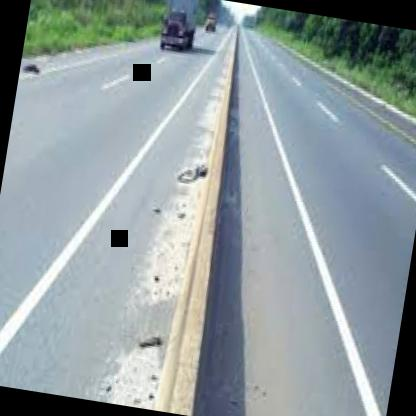car: (143, 0, 210, 66), (198, 4, 221, 33)
